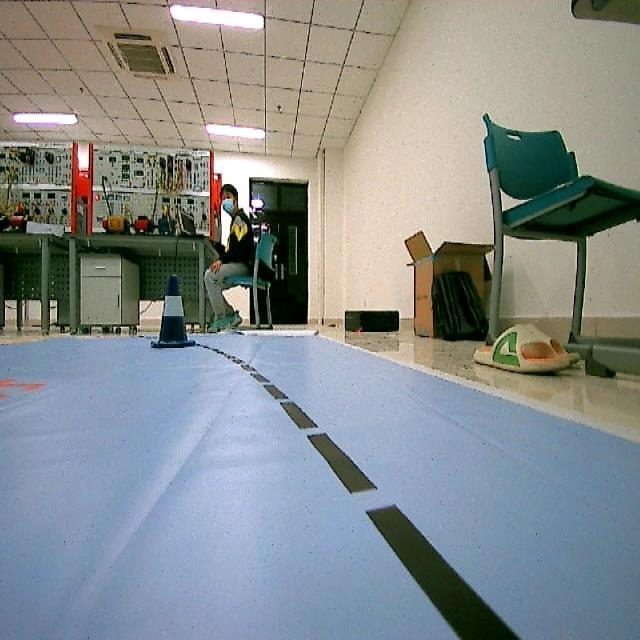obstacle: (152, 272, 194, 350)
